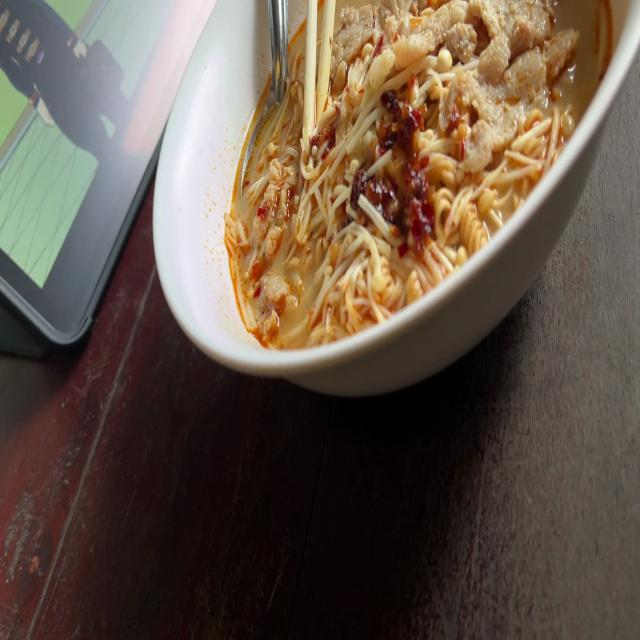noodle: (220, 0, 613, 356)
